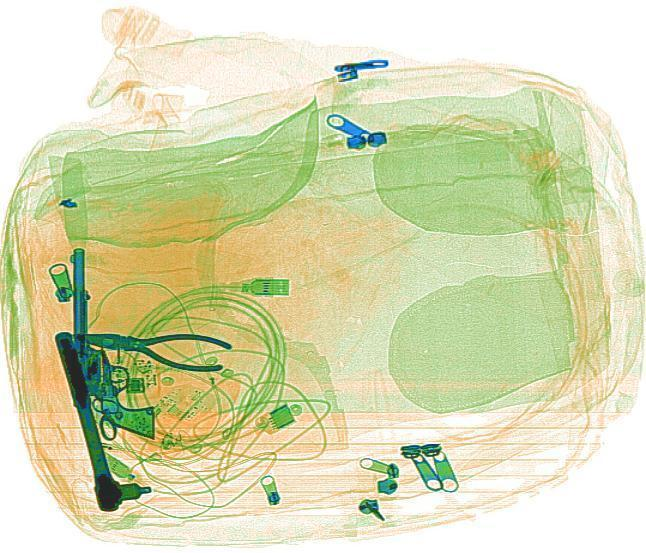Gun: (69, 248, 108, 396), (98, 351, 155, 439)
Pliers: (70, 314, 233, 376)
